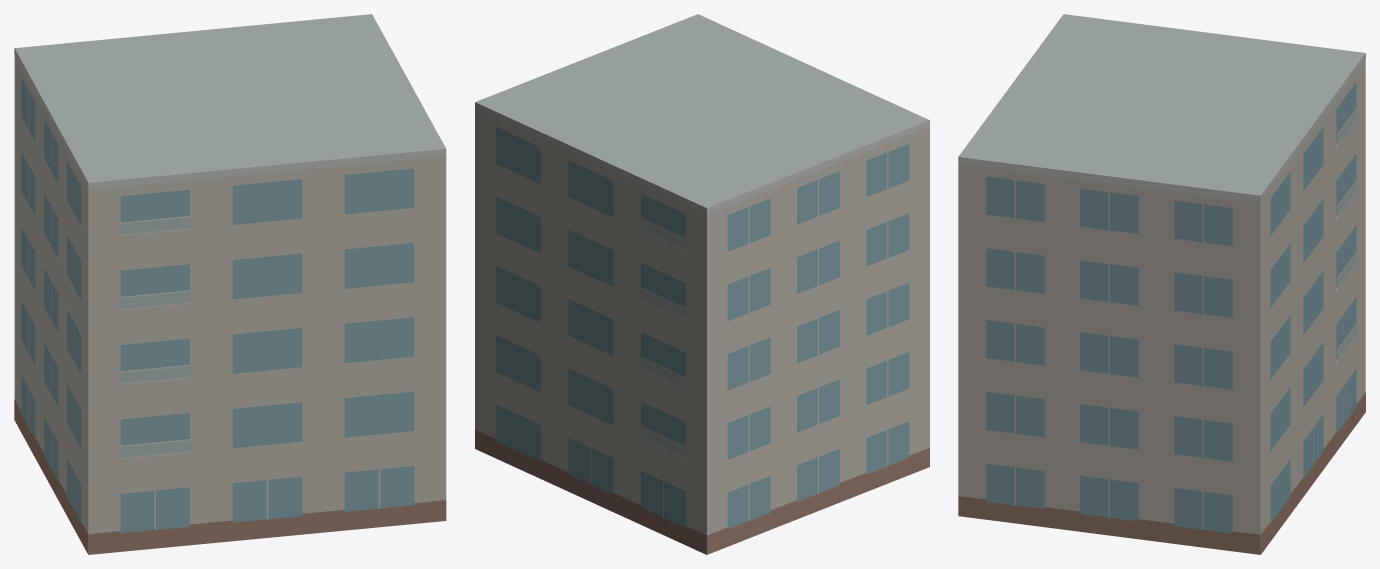
The model's file is survey-upis-32653778.glb.
3 views of the same model, side by side, from view 1: azimuth 30°, elevation 25°; view 2: azimuth 150°, elevation 25°; view 3: azimuth 270°, elevation 25° (orthographic). The views are drawn at different scales.
Visible parts, largest first — view 1: survey-upis-32653778.tmp; view 2: survey-upis-32653778.tmp; view 3: survey-upis-32653778.tmp.
Boxes of the visible parts, x1,y1,x2,y2 form: survey-upis-32653778.tmp: [14, 14, 446, 554]; survey-upis-32653778.tmp: [475, 14, 929, 554]; survey-upis-32653778.tmp: [958, 14, 1365, 554].
Bounding box in the file's own units: 14.12 × 13 × 13.38.
